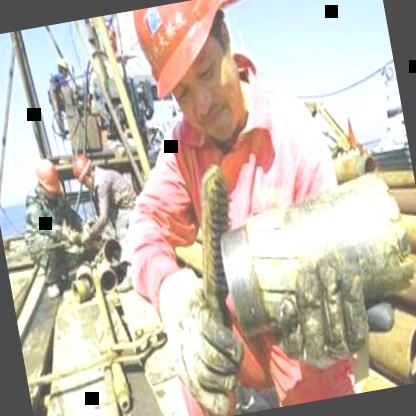helmet: (128, 0, 264, 161), (30, 156, 63, 204), (68, 149, 99, 196), (53, 53, 72, 80)
